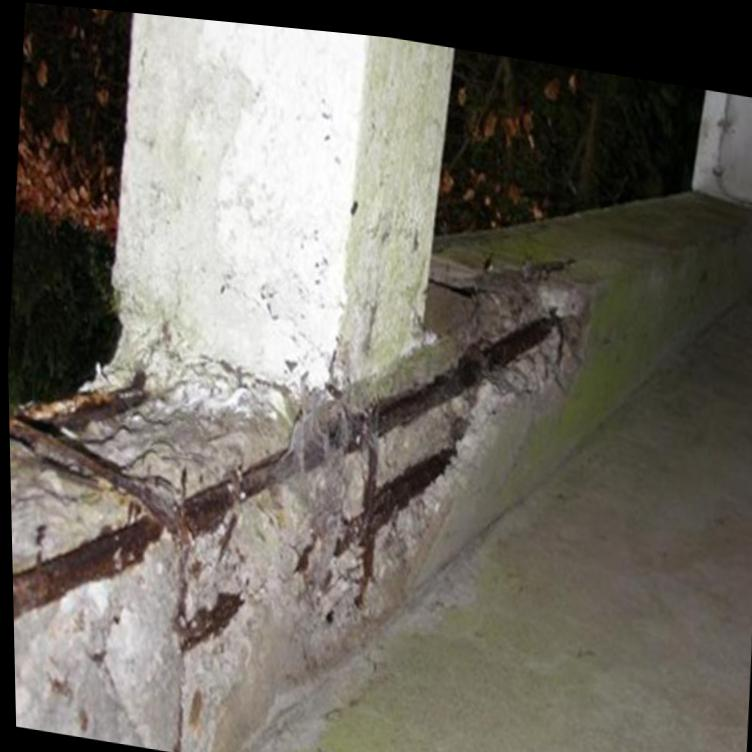damage: (7, 262, 598, 752)
